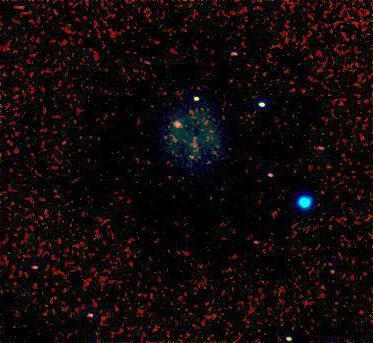star: (303, 131, 333, 161)
